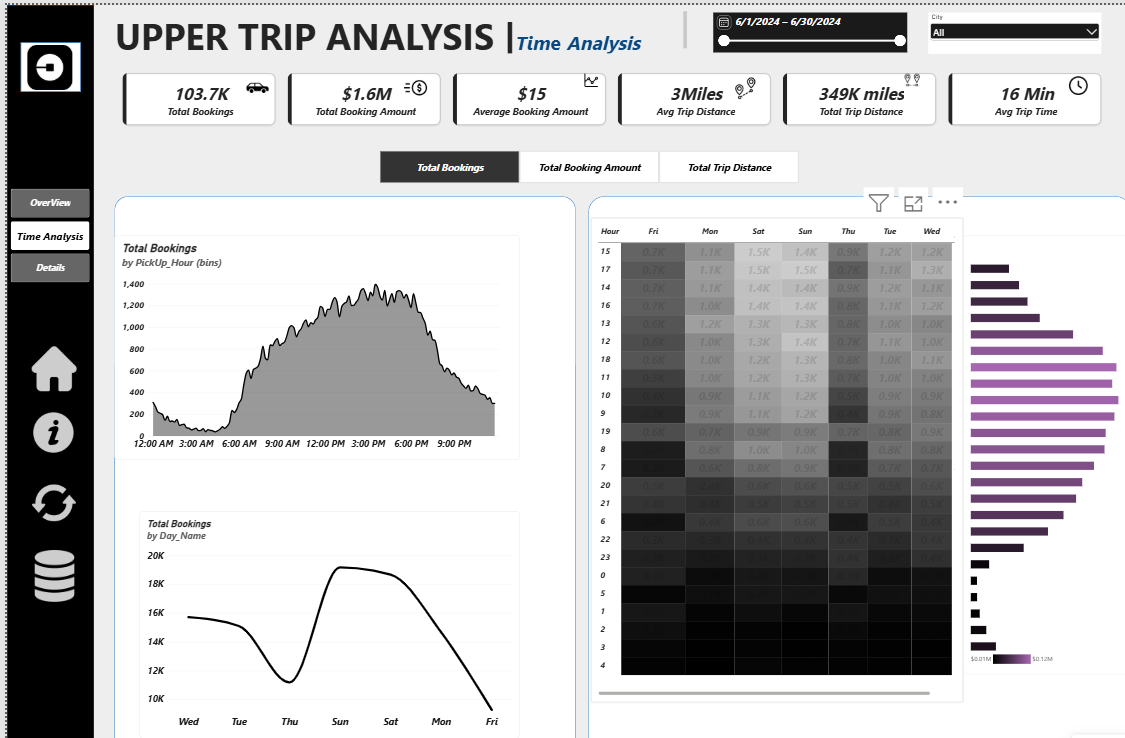

What the dashboard file says about the page in this screenshot:
{"tool":"powerbi","page":{"name":"Time Analysis","canvas":[2500,1900],"ordinal":1},"visuals":[{"type":"shape","box":[1292.1,423.7,1207.9,1305.3],"z":0},{"type":"shape","box":[240,425,1025,1305],"z":1000},{"type":"shape","box":[0,0,193.3,1898.3],"z":2000},{"type":"textbox","box":[238.3,13.3,1271.7,93.3],"z":3000},{"type":"cardVisual","fields":{"Data":["Calender Table.Total Bookings","Calender Table.Total Booking Amount","Calender Table.Average Booking Amount","Calender Table.Avg Trip Distance","Calender Table.Total Trip Distance","Calender Table.Avg Trip Time"]},"box":[233.3,128.2,2224.4,163.4],"z":4000},{"type":"image","box":[1605.1,161.5,73.3,48.3],"z":5000},{"type":"image","box":[1266.7,151.3,63.4,34.1],"z":6000},{"type":"image","box":[2353.8,159,56.1,41.5],"z":7000},{"type":"image","box":[1966.7,151.3,90,33.3],"z":8000},{"type":"image","box":[874.4,159,65.9,51.2],"z":9000},{"type":"image","box":[494.9,159,124.4,51.2],"z":10000},{"type":"slicer","fields":{"Values":[" Dynamic Measure 2. Dynamic Measure"]},"box":[808.3,322.2,969.4,75],"z":11000},{"type":"textbox","box":[874.3,1807.1,457.1,91.4],"z":12000},{"type":"slicer","fields":{"Values":["Calender Table.Date"]},"box":[1569.2,15.4,430.8,87.2],"z":13000},{"type":"slicer","fields":{"Values":["City.City"]},"box":[2046.2,15.4,384.6,92.3],"z":14000},{"type":"areaChart","fields":{"Category":["Trip Details.PickUp_Hour (bins)"],"Y":["Calender Table.Total Bookings"]},"box":[240,510,900,500],"z":15000},{"type":"lineChart","fields":{"Category":["Calender Table.Day_Name"],"Y":["Calender Table.Total Bookings"]},"box":[295,1125,845,505],"z":16000},{"type":"pivotTable","fields":{"Columns":["Calender Table.Day_Name"],"Rows":["Trip Details.PickUp Hour"],"Values":["Calender Table.Total Bookings"]},"box":[1297.4,471.1,826.3,1078.9],"z":17000},{"type":"clusteredBarChart","fields":{"Category":["Trip Details.Hour"],"Y":["Calender Table.Total Bookings"]},"box":[2123.7,510.5,365.8,976.3],"z":17001},{"type":"textbox","box":[240,1730,1025,150],"z":17002},{"type":"pageNavigator","box":[7.1,409.5,175.6,208.9],"z":17003},{"type":"shape","box":[31,83.3,133.3,109.5],"z":17004},{"type":"image","box":[45.2,88.1,102.4,100],"z":17005},{"type":"image","box":[51.3,759,110.3,100],"z":17006},{"type":"image","box":[59,887.2,89.7,128.2],"z":17007},{"type":"image","box":[56.4,1051.3,97.4,112.8],"z":17008},{"type":"image","box":[41,1210.3,128.2,115.4],"z":17009}]}

Visuals, with their boxes on the page's 2500x1900 design canvas (x1, y1, x2, y2). These are canvas units, not pixel positions in the 1125x738 screenshot, which may show the page scaled, cropped or inside an application window:
shape: 1292/424/2500/1729
shape: 240/425/1265/1730
shape: 0/0/193/1898
textbox: 238/13/1510/107
cardVisual - Calender Table.Total Bookings x Calender Table.Total Booking Amount: 233/128/2458/292
image: 1605/162/1678/210
image: 1267/151/1330/185
image: 2354/159/2410/200
image: 1967/151/2057/185
image: 874/159/940/210
image: 495/159/619/210
slicer -  Dynamic Measure 2. Dynamic Measure: 808/322/1778/397
textbox: 874/1807/1331/1898
slicer - Calender Table.Date: 1569/15/2000/103
slicer - City.City: 2046/15/2431/108
areaChart - Trip Details.PickUp_Hour (bins) x Calender Table.Total Bookings: 240/510/1140/1010
lineChart - Calender Table.Day_Name x Calender Table.Total Bookings: 295/1125/1140/1630
pivotTable - Calender Table.Day_Name x Trip Details.PickUp Hour: 1297/471/2124/1550
clusteredBarChart - Trip Details.Hour x Calender Table.Total Bookings: 2124/510/2490/1487
textbox: 240/1730/1265/1880
pageNavigator: 7/410/183/618
shape: 31/83/164/193
image: 45/88/148/188
image: 51/759/162/859
image: 59/887/149/1015
image: 56/1051/154/1164
image: 41/1210/169/1326
